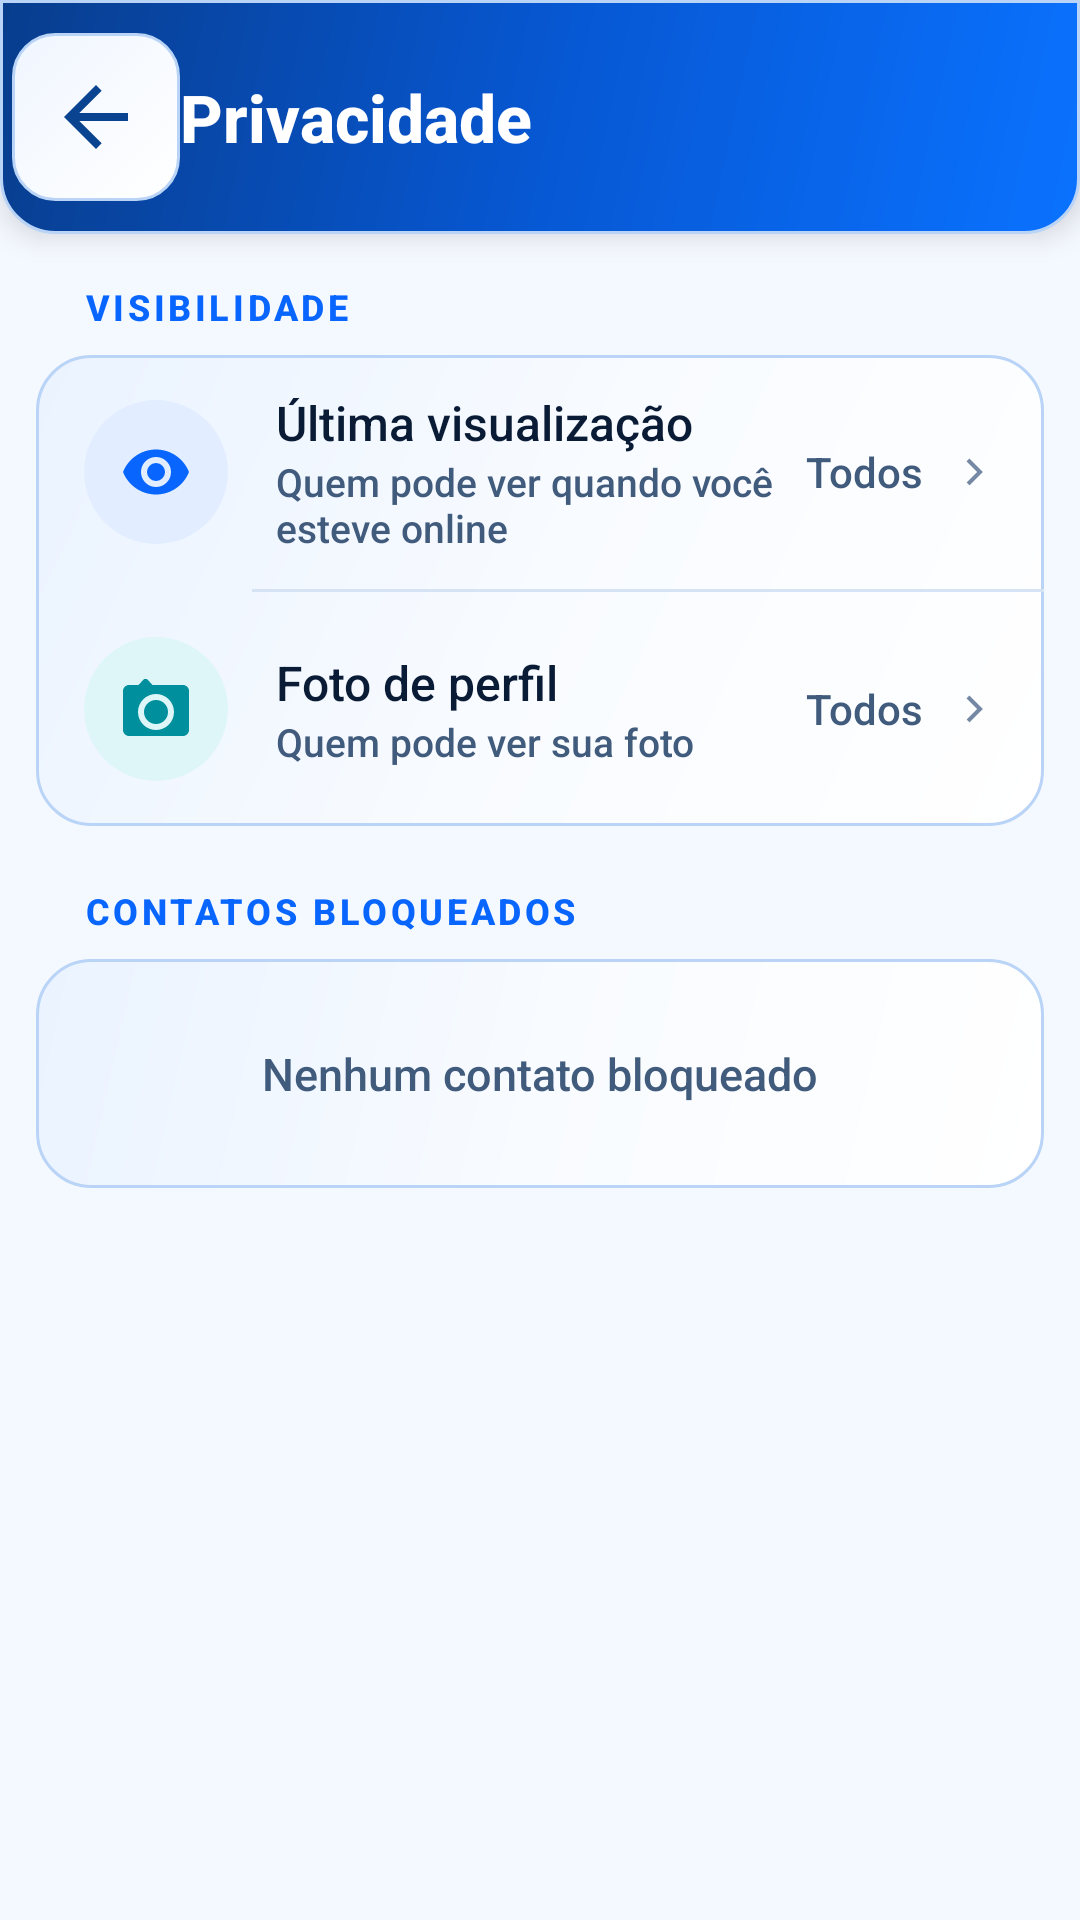

Icon bounding boxes for this 1080 x 1920 phone screenshot, format (x1, y1, x2, y2):
zen back: (12, 33, 180, 201)
zen camera: (123, 679, 189, 736)
zen chevron right: (966, 458, 983, 485), (966, 695, 983, 722)
zen visibility: (123, 449, 189, 495)
